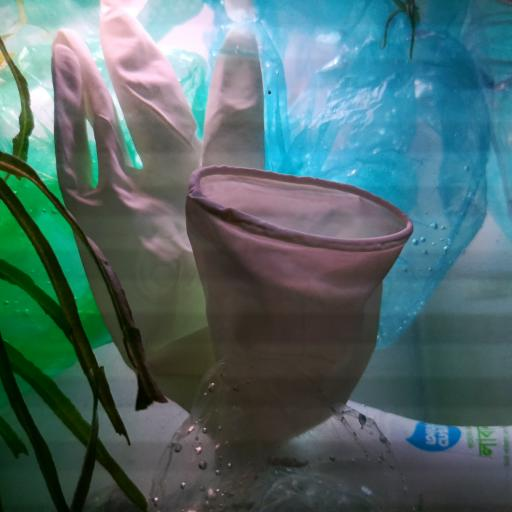glove: (50, 0, 413, 444)
plastic_bag: (206, 0, 492, 346), (0, 43, 206, 383), (148, 346, 418, 512)
plastic_bottle: (303, 399, 512, 512)
